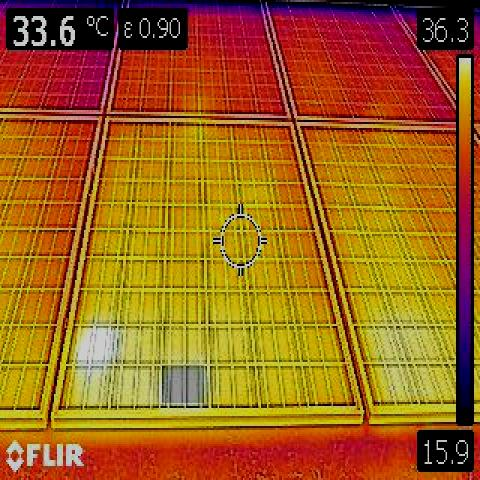fault: (162, 365, 204, 403), (77, 327, 113, 362)
